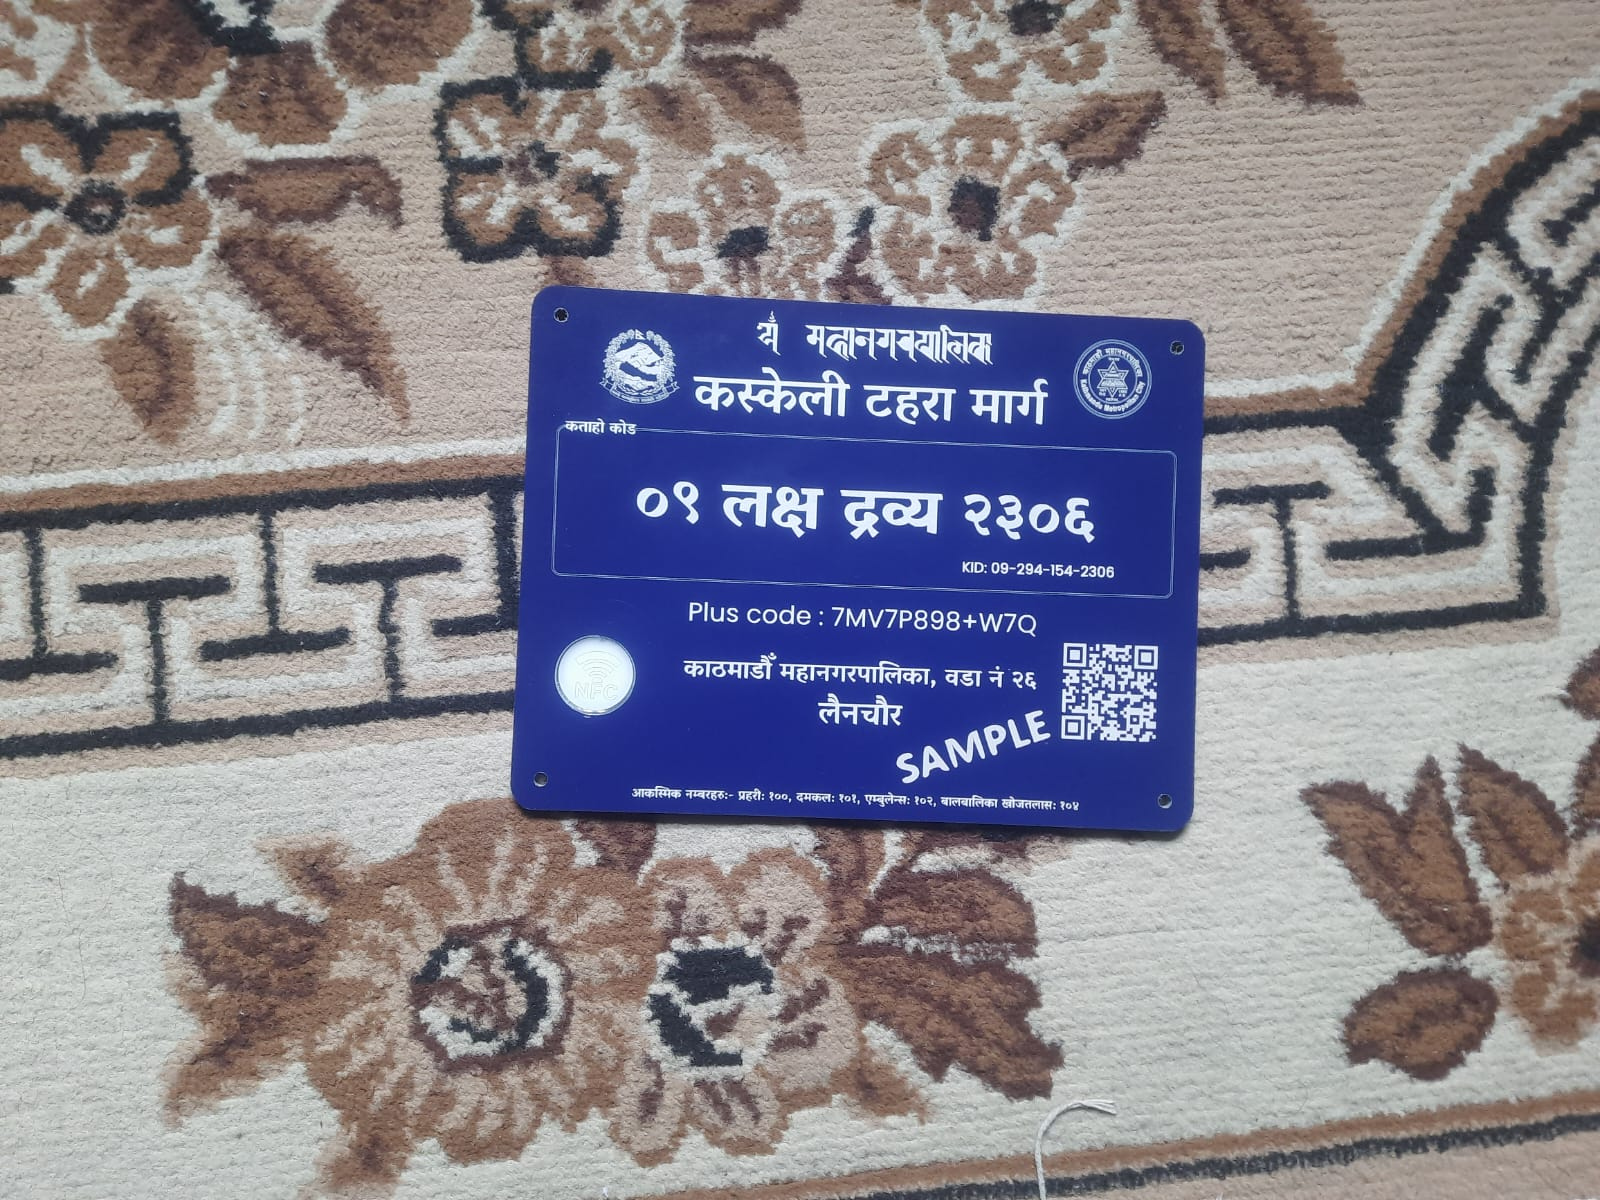Plate: (507, 280, 1211, 842)
